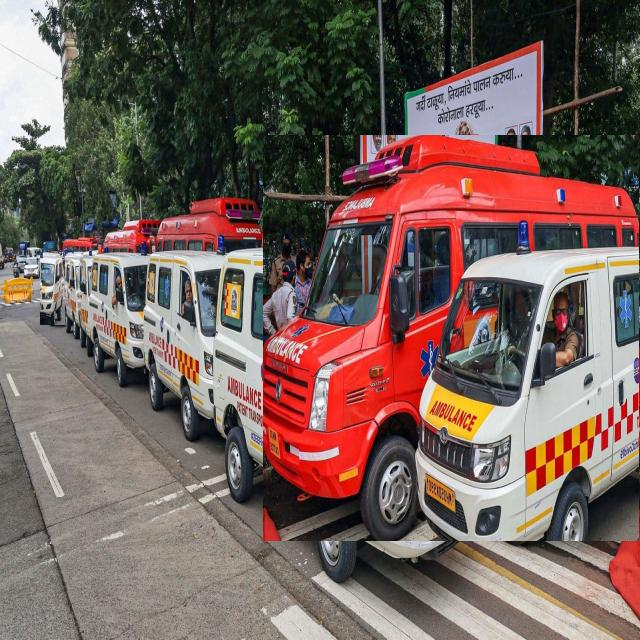emergency: (264, 135, 639, 541), (212, 221, 488, 579), (144, 234, 230, 439), (90, 253, 149, 383), (155, 197, 261, 252), (40, 253, 65, 325)
